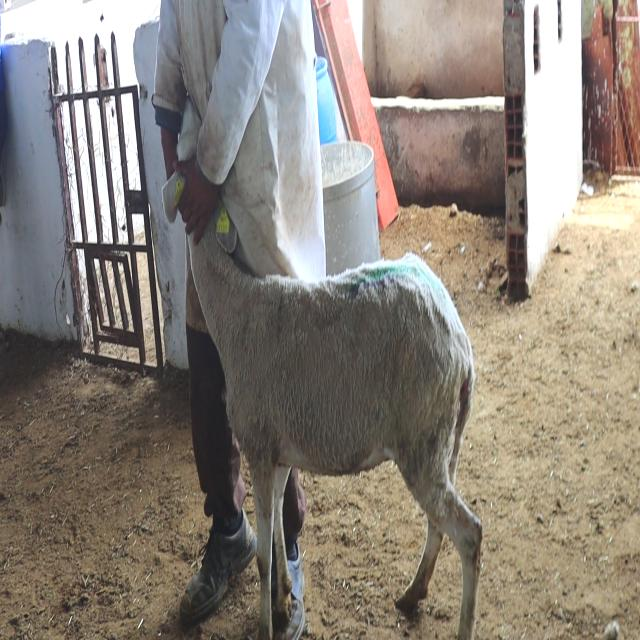Score_1: (190, 227, 482, 639)
